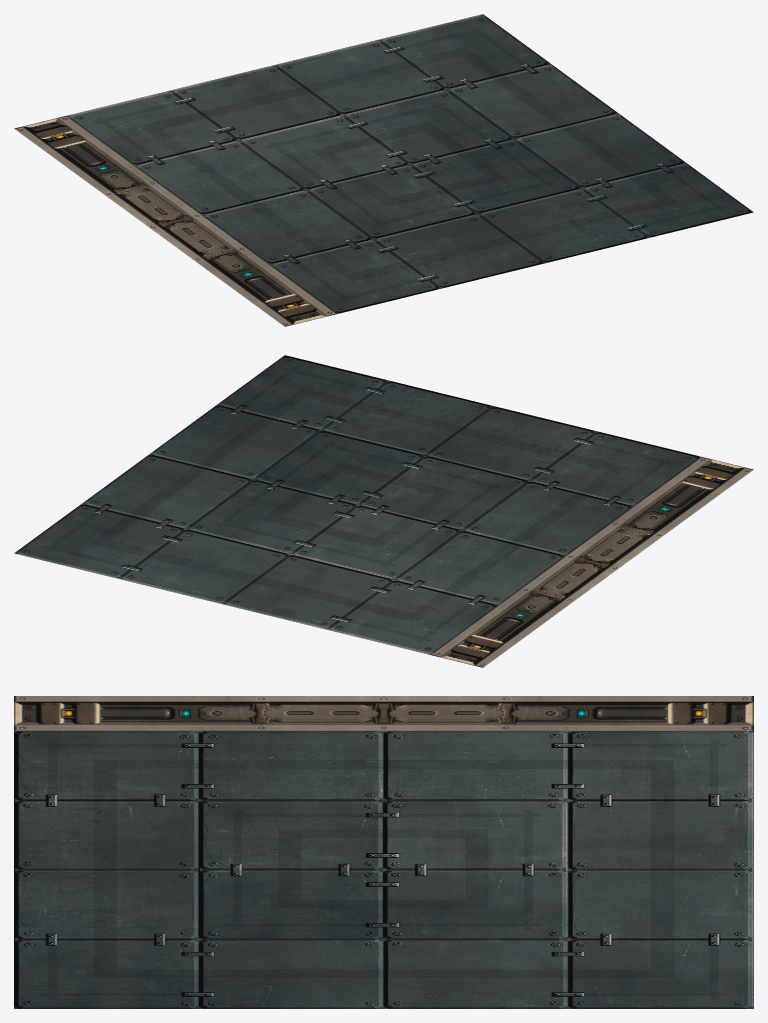
File: mprw_floor_side.FBX
3 views of the same model, one above another, from view 1: azimuth 30°, elevation 25°; view 2: azimuth 150°, elevation 25°; view 3: azimuth 270°, elevation 25° (orthographic). The views are drawn at different scales.
Parts seen in each view (by area): view 1: mprw_floor_side; view 2: mprw_floor_side; view 3: mprw_floor_side.
Boxes of the visible parts, <box> form: mprw_floor_side: <box>14,14,753,326</box>; mprw_floor_side: <box>14,355,753,667</box>; mprw_floor_side: <box>14,696,753,1008</box>.
Bounding box in the file's own units: 700 × 1.98e-13 × 700.
Materials: 1 (1 with a texture image).
